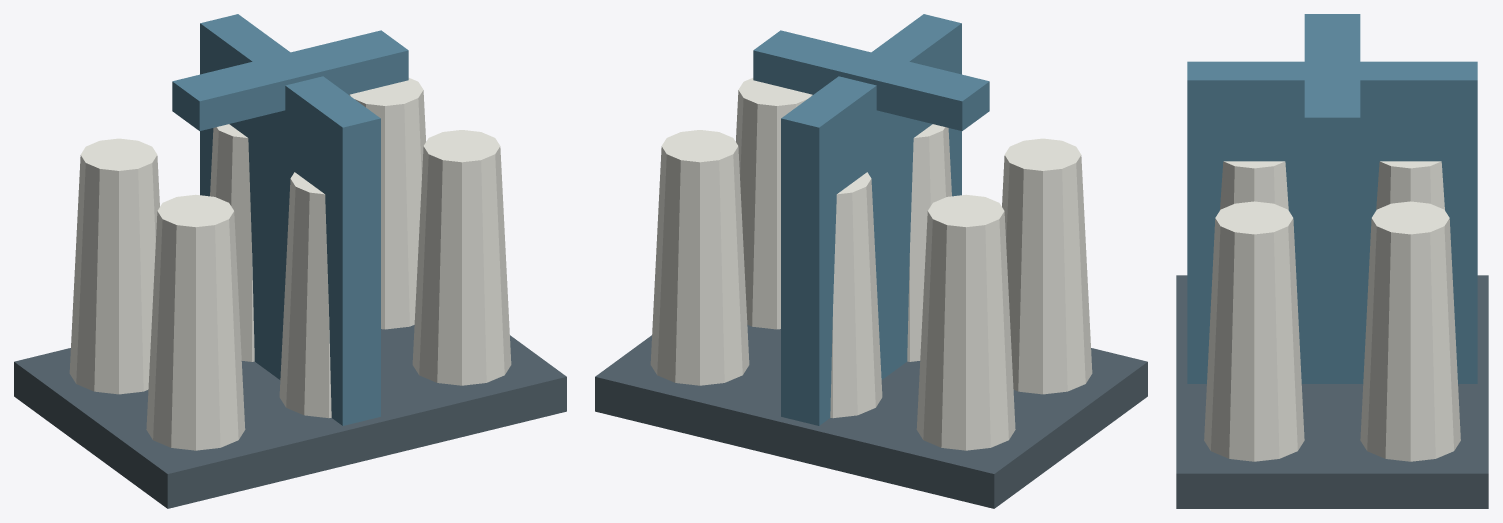
Rendered from football-soccer-club-grounds-water-bottle-carrier-3c5028a4.glb.
3 views of the same model, side by side, from view 1: azimuth 30°, elevation 25°; view 2: azimuth 150°, elevation 25°; view 3: azimuth 270°, elevation 25° (orthographic).
Parts seen in each view (by area): view 1: water-bottle-carrier; view 2: water-bottle-carrier; view 3: water-bottle-carrier.
Boxes of the visible parts, x1,y1,x2,y2 form: water-bottle-carrier: (14, 14, 566, 508); water-bottle-carrier: (595, 14, 1147, 508); water-bottle-carrier: (1176, 14, 1488, 508).
Bounding box in the file's own units: 0.42 × 0.34 × 0.28.
